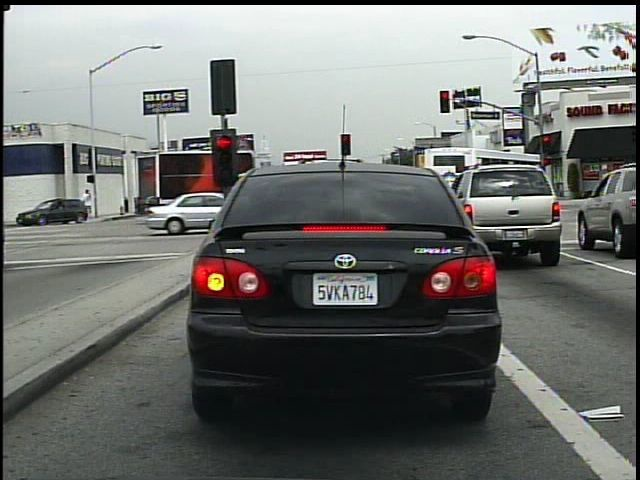person: (78, 185, 99, 220)
